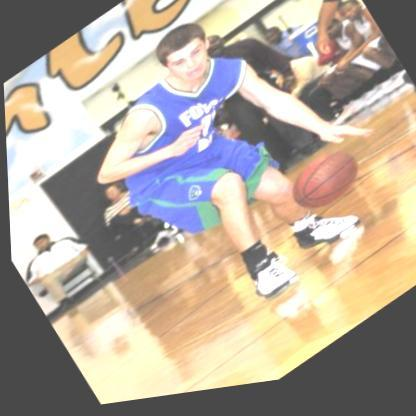basketball: (279, 145, 371, 235)
